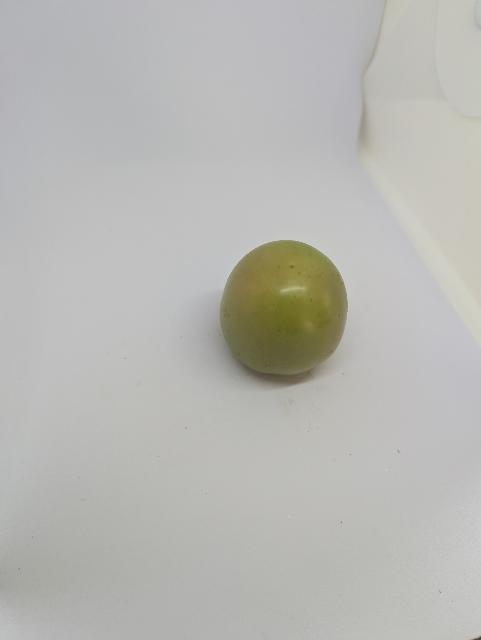green: (203, 227, 362, 391)
